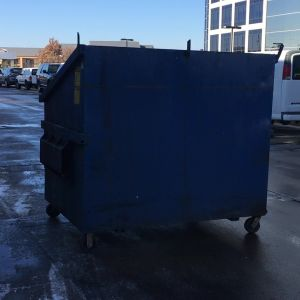Dumpster: (36, 30, 291, 254)
